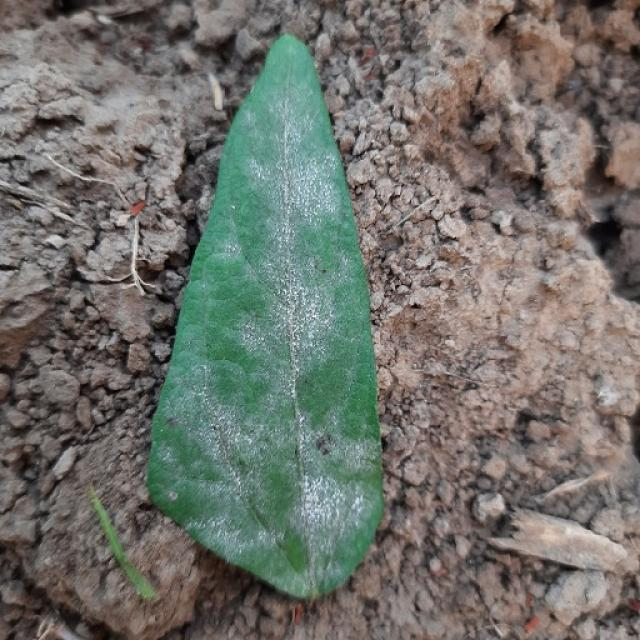Blackgram: (148, 35, 382, 596)
Powdery_Mildew: (157, 288, 301, 567), (181, 239, 285, 366), (264, 121, 345, 265), (293, 437, 370, 573), (273, 244, 337, 370), (304, 474, 374, 555), (187, 358, 251, 409), (231, 204, 236, 210)
